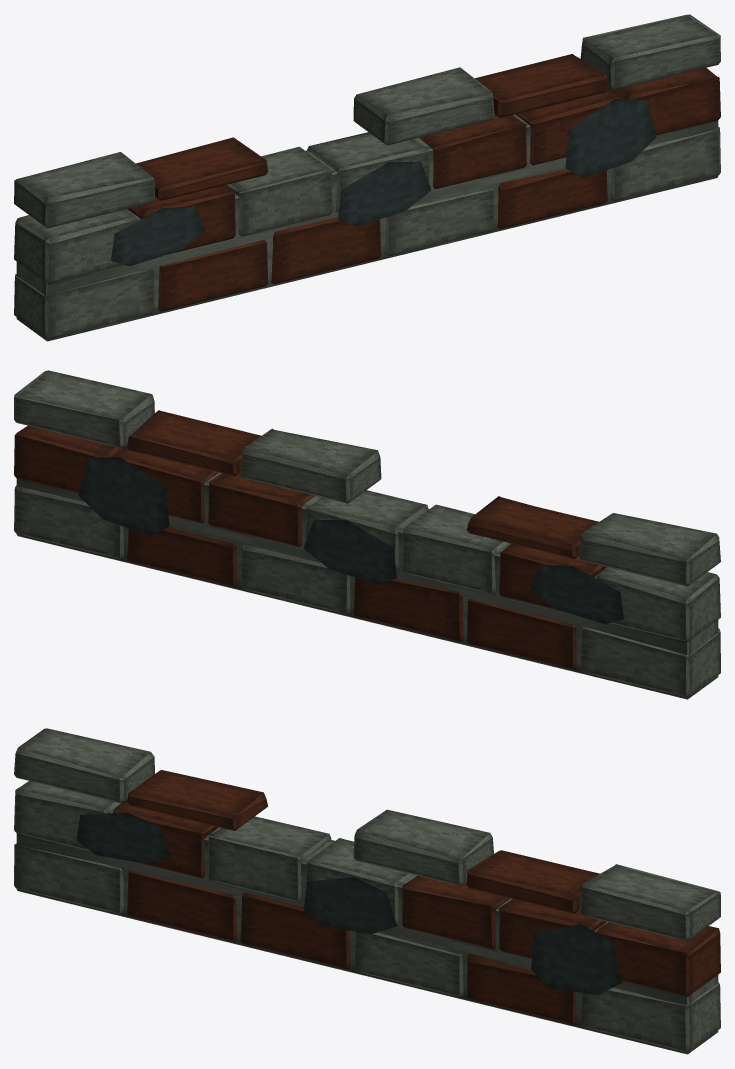
Rendered from THStage_RearPartition.fbx.
3 views of the same model, one above another, from view 1: azimuth 30°, elevation 25°; view 2: azimuth 150°, elevation 25°; view 3: azimuth 330°, elevation 25° (orthographic).
Parts seen in each view (by area): view 1: THStage_RearPartition.015; view 2: THStage_RearPartition.015; view 3: THStage_RearPartition.015.
Part boxes in pixels (bbox=[...]): THStage_RearPartition.015: bbox=[14, 14, 720, 341]; THStage_RearPartition.015: bbox=[14, 370, 720, 699]; THStage_RearPartition.015: bbox=[14, 728, 720, 1054].
Bounding box in the file's own units: 2.93 × 0.6035 × 0.258.
Materials: 1 (1 with a texture image).
